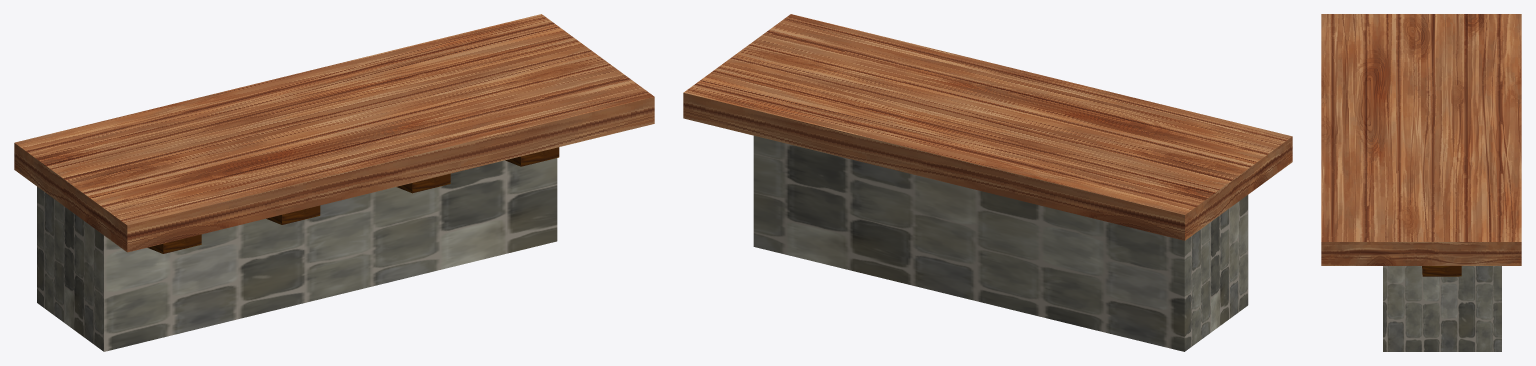
Rendered from bar.glb.
The picture shows the model from 3 angles, left to right: view 1: azimuth 30°, elevation 25°; view 2: azimuth 150°, elevation 25°; view 3: azimuth 270°, elevation 25°; orthographic projection. The views are drawn at different scales.
Parts seen in each view (by area): view 1: blat, nogi, Cube.001, Cube.004, Cube.003, Cube.002; view 2: blat, nogi; view 3: blat, nogi, Cube.005.
Boxes of the visible parts, box(x1,y1,x2,y2) form: blat: box(14, 14, 654, 252); nogi: box(37, 158, 557, 351); Cube.001: box(505, 147, 559, 166); Cube.004: box(266, 205, 320, 224); Cube.003: box(147, 234, 201, 253); Cube.002: box(397, 173, 450, 193); blat: box(683, 14, 1292, 240); nogi: box(753, 135, 1248, 351); blat: box(1321, 14, 1521, 265); nogi: box(1383, 266, 1501, 351); Cube.005: box(1422, 266, 1461, 276).
Bounding box in the file's own units: 9.07 × 2.54 × 3.37.
Materials: 7 (7 with a texture image).
